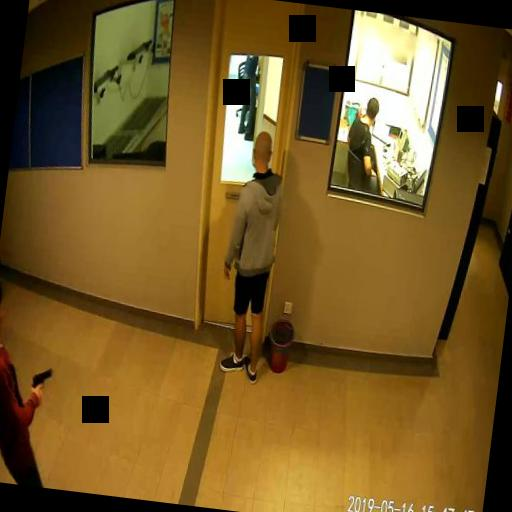Handgun: (29, 366, 52, 400)
